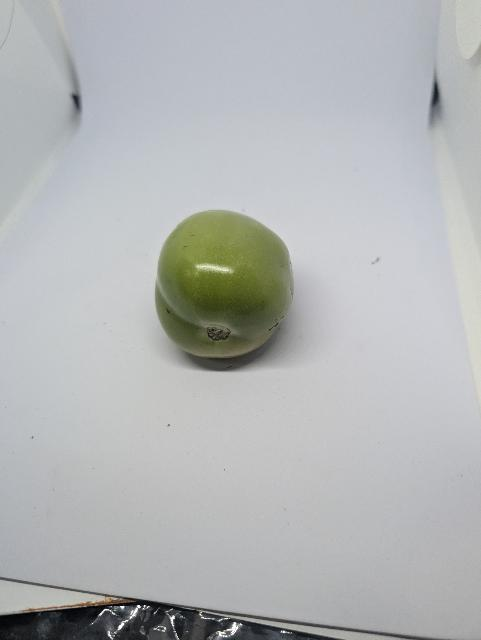green: (140, 196, 304, 392)
